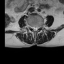CCS_normal: (34, 24, 36, 33)
LFS_normal: (38, 24, 40, 30)
LLS_normal: (36, 25, 38, 32)
RFS_normal: (30, 24, 32, 30)
RLS_normal: (32, 24, 34, 32)
